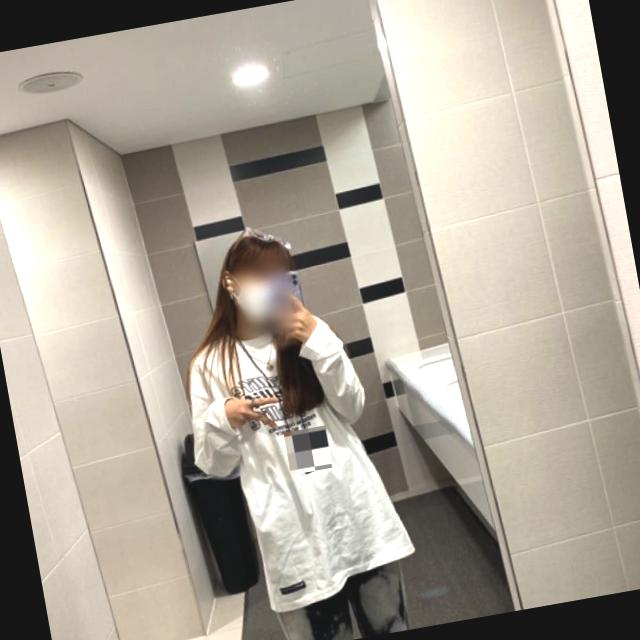denimpants: (268, 556, 418, 640)
longsleeve: (175, 298, 426, 622)
